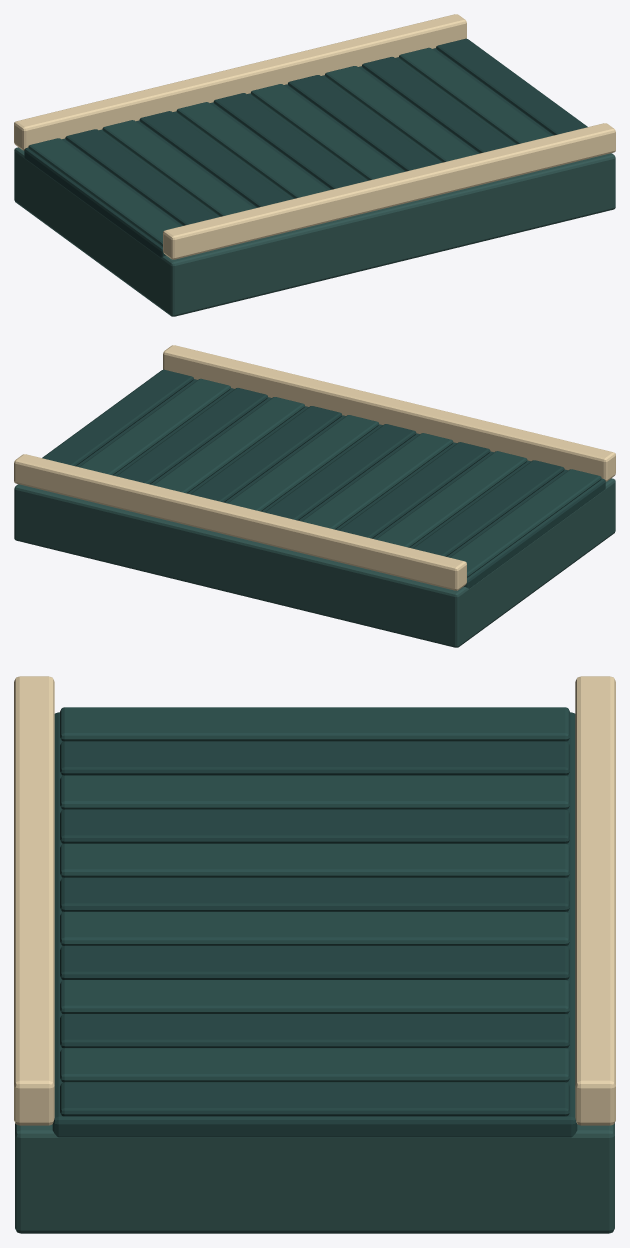
File: Belt_Straight_2m.fbx
The picture shows the model from 3 angles, top to bottom: view 1: azimuth 30°, elevation 25°; view 2: azimuth 150°, elevation 25°; view 3: azimuth 270°, elevation 25°; orthographic projection. The views are drawn at different scales.
Parts seen in each view (by area): view 1: Body, Slats, BeltSurface; view 2: Body, Slats, BeltSurface; view 3: Slats, Body, BeltSurface.
Boxes of the visible parts, x1,y1,x2,y2 form: Body: [14, 14, 615, 316]; Slats: [28, 38, 587, 246]; BeltSurface: [24, 48, 553, 257]; Body: [14, 345, 615, 647]; Slats: [42, 369, 601, 577]; BeltSurface: [76, 379, 605, 588]; Slats: [60, 707, 569, 1116]; Body: [14, 676, 615, 1233]; BeltSurface: [52, 712, 577, 1137].
Bounding box in the file's own units: 2 × 0.348 × 1.24.
